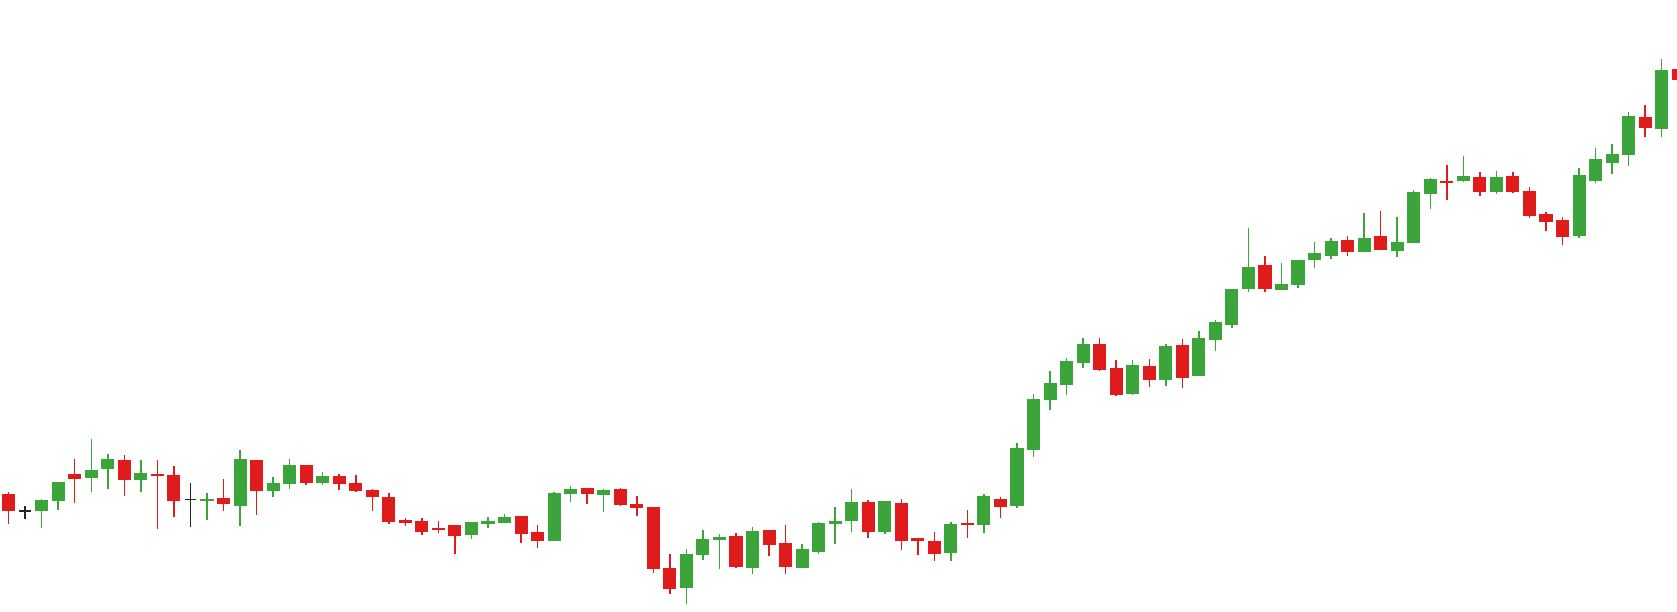buy: (448, 514, 697, 606)
